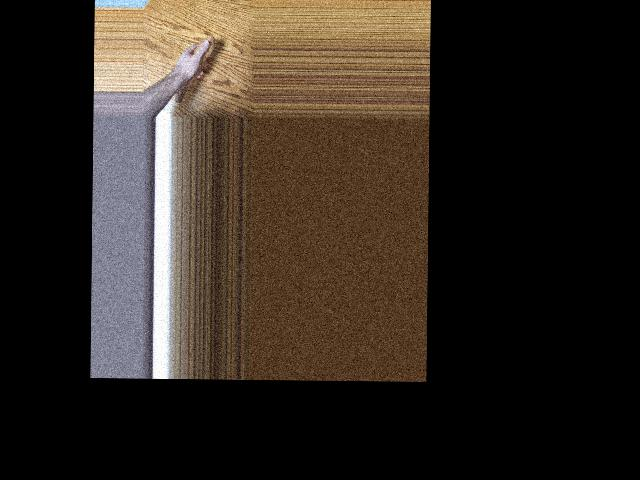sweet_potato: (173, 33, 215, 115)
